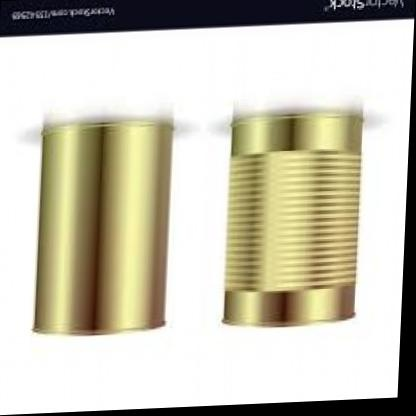trash: (224, 112, 362, 325), (34, 119, 172, 332)
